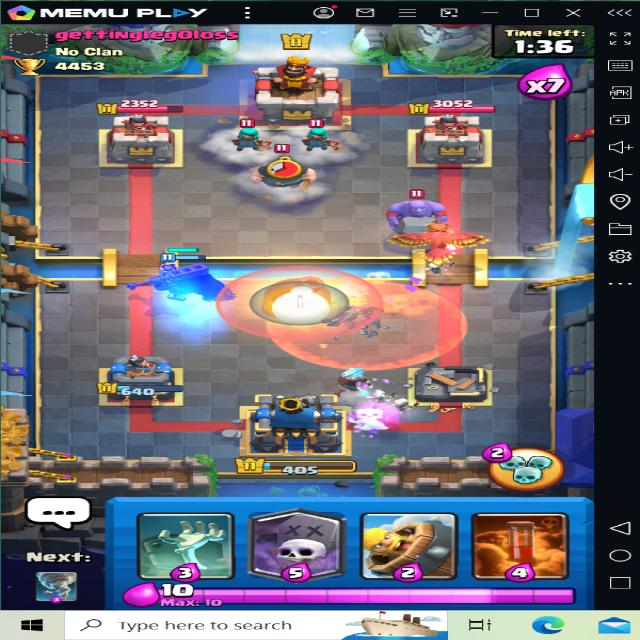Bowler: (380, 186, 453, 238)
Rascalboy: (238, 143, 326, 191)
Rascalgirl: (302, 119, 342, 151), (227, 117, 263, 146)
